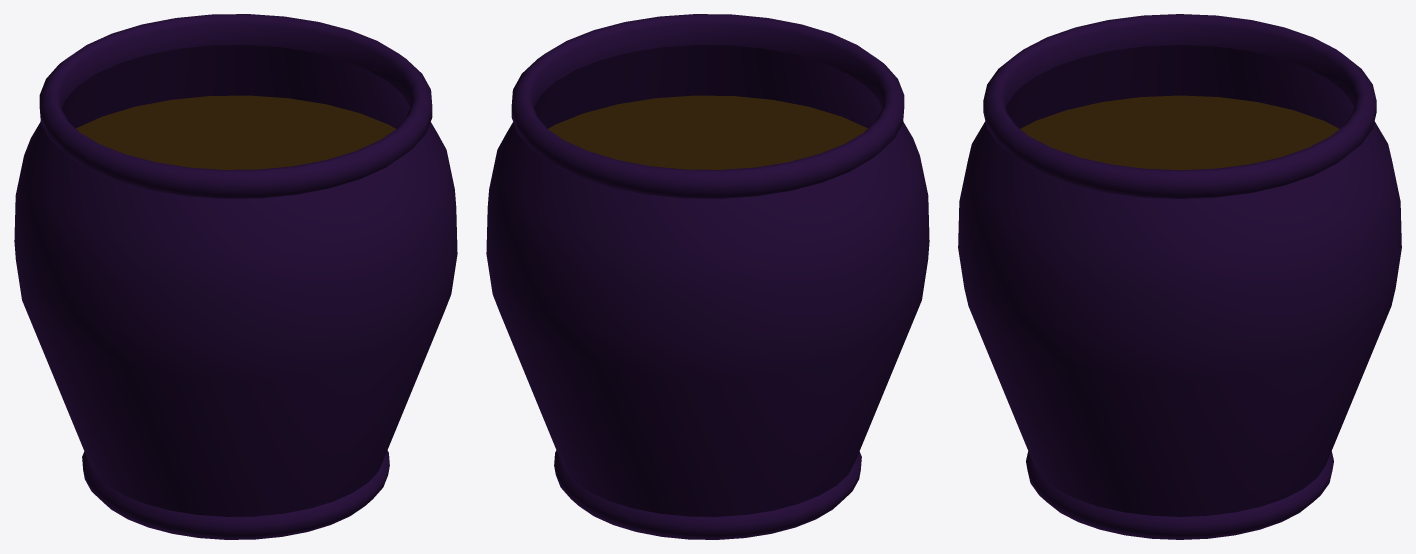
File: Pot_Lacquer.fbx
3 renders of one model, left to right at view 1: azimuth 30°, elevation 25°; view 2: azimuth 150°, elevation 25°; view 3: azimuth 270°, elevation 25°, orthographic.
Visible parts, largest first — view 1: Pot_Lacquer; view 2: Pot_Lacquer; view 3: Pot_Lacquer.
Boxes of the visible parts, x1,y1,x2,y2 form: Pot_Lacquer: (14,14,457,539); Pot_Lacquer: (486,14,929,539); Pot_Lacquer: (958,14,1401,539).
Size of the model in its own units: 211 by 202 by 211.
